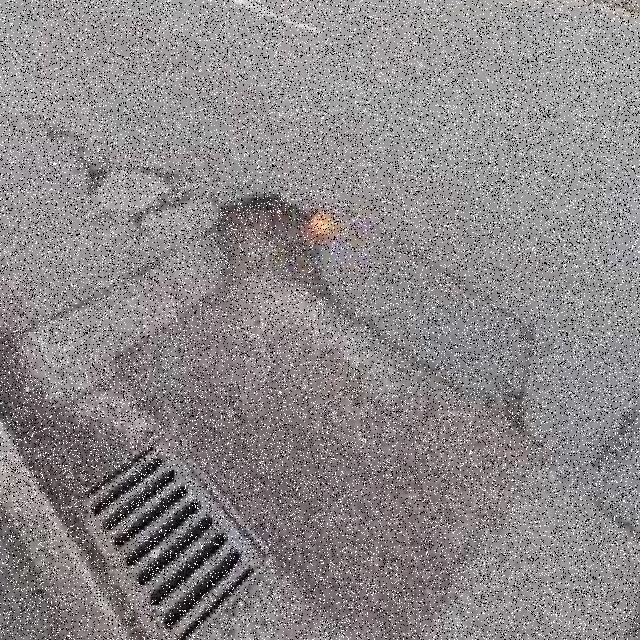pothole: (207, 194, 358, 340)
